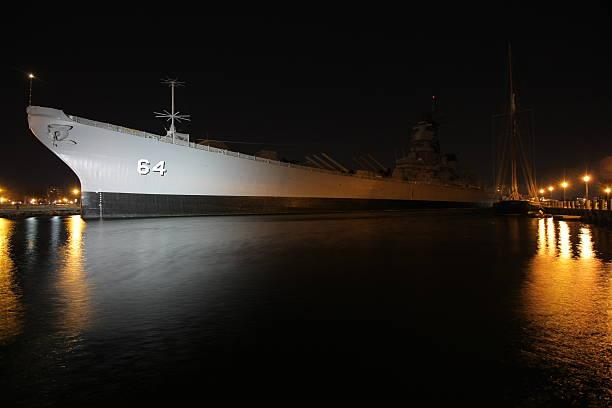MIL_Ship: (16, 103, 521, 220)
